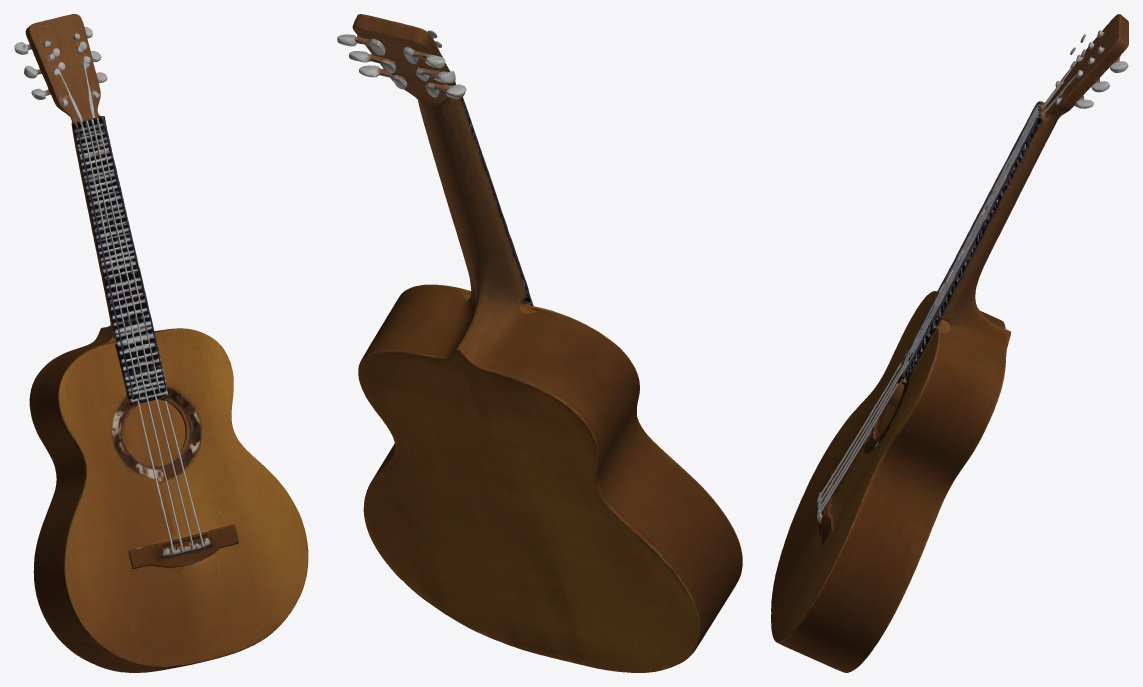
Rendered from acoustic-guitar-trellis.glb.
3 renders of one model, left to right at view 1: azimuth 30°, elevation 25°; view 2: azimuth 150°, elevation 25°; view 3: azimuth 270°, elevation 25°, orthographic. The views are drawn at different scales.
Visible parts, largest first — view 1: guitar_body, bridge, headstock, neck, strings, sound_hole, left_tuning_pegs; view 2: guitar_body, neck, headstock, left_tuning_pegs, right_tuning_pegs; view 3: guitar_body, neck, headstock, bridge, right_tuning_pegs, strings, sound_hole.
Part boxes in pixels (box(x1,y1,x2,y2)): guitar_body: box(29, 295, 308, 672); bridge: box(136, 546, 257, 664); headstock: box(30, 14, 113, 166); neck: box(78, 158, 145, 345); strings: box(154, 463, 200, 562); sound_hole: box(127, 461, 207, 520); left_tuning_pegs: box(14, 25, 48, 99); guitar_body: box(358, 262, 742, 672); neck: box(426, 131, 524, 360); headstock: box(354, 14, 474, 140); left_tuning_pegs: box(418, 30, 466, 98); right_tuning_pegs: box(337, 14, 382, 77); guitar_body: box(771, 268, 1008, 672); neck: box(950, 142, 1040, 351); headstock: box(1016, 14, 1128, 158); bridge: box(774, 503, 822, 635); right_tuning_pegs: box(1075, 39, 1128, 108); strings: box(817, 425, 863, 528); sound_hole: box(834, 424, 863, 489).
Bounding box in the file's own units: 0.1803 × 0.4 × 0.2084.
Materials: 1 (1 with a texture image).
